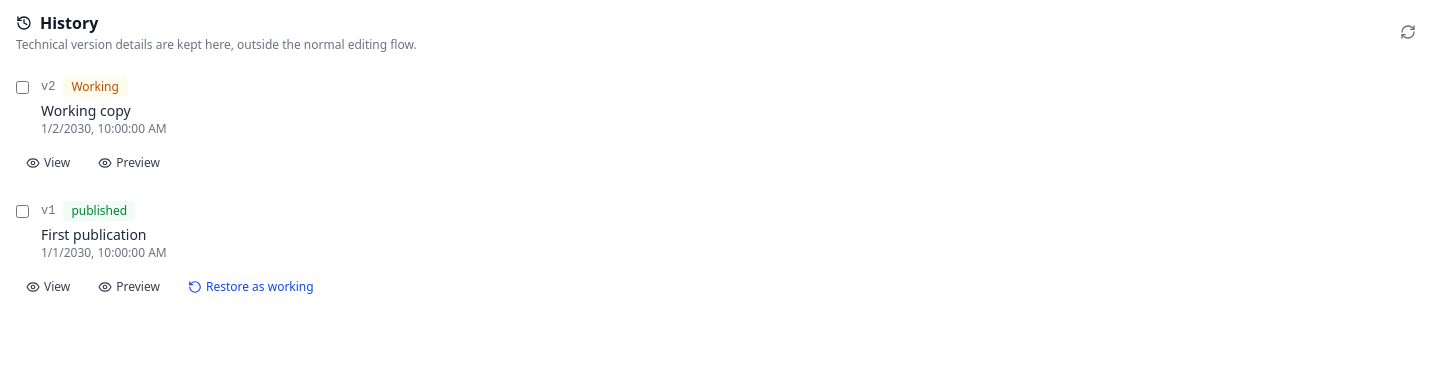
Test case: PageVersionHistoryPanel › compares two selected history versions
expect the text "v2" is shown: met, box [41,79,55,95]
Click the checkbox named "compare version 2": (22,88) [16,81,29,94]
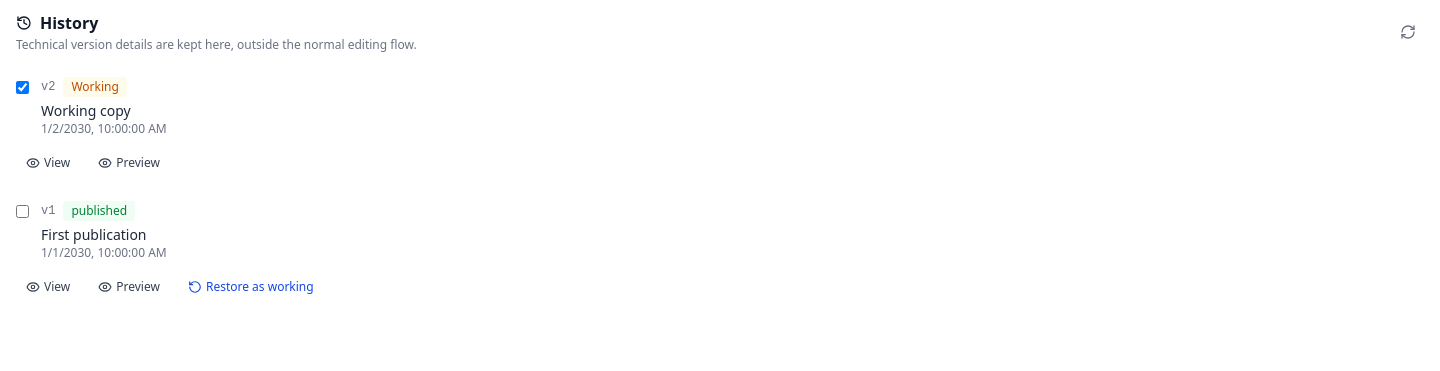
Click the checkbox named "compare version 1": (22,212) [16,205,29,218]
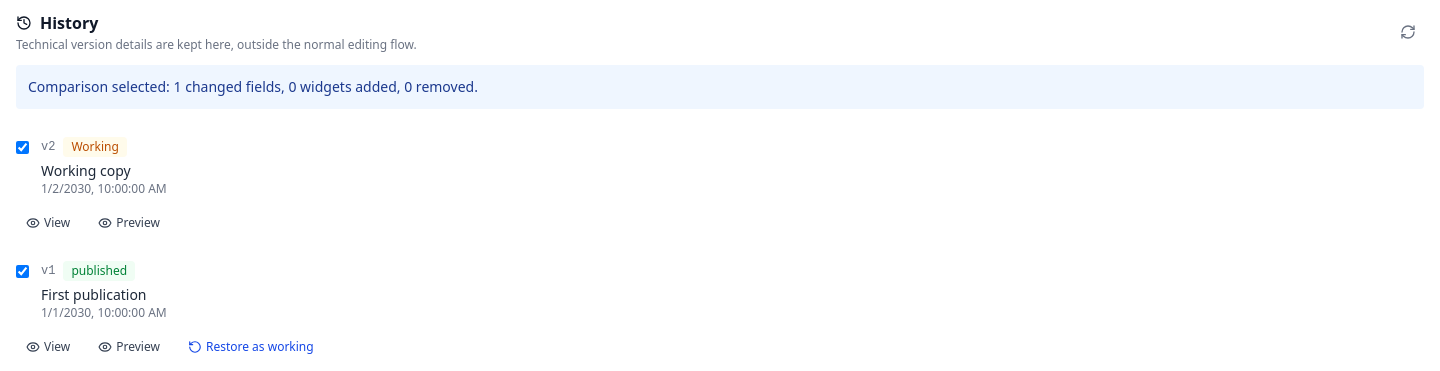
expect the text "1 changed fields" is shown: met, box [16,65,1424,109]
